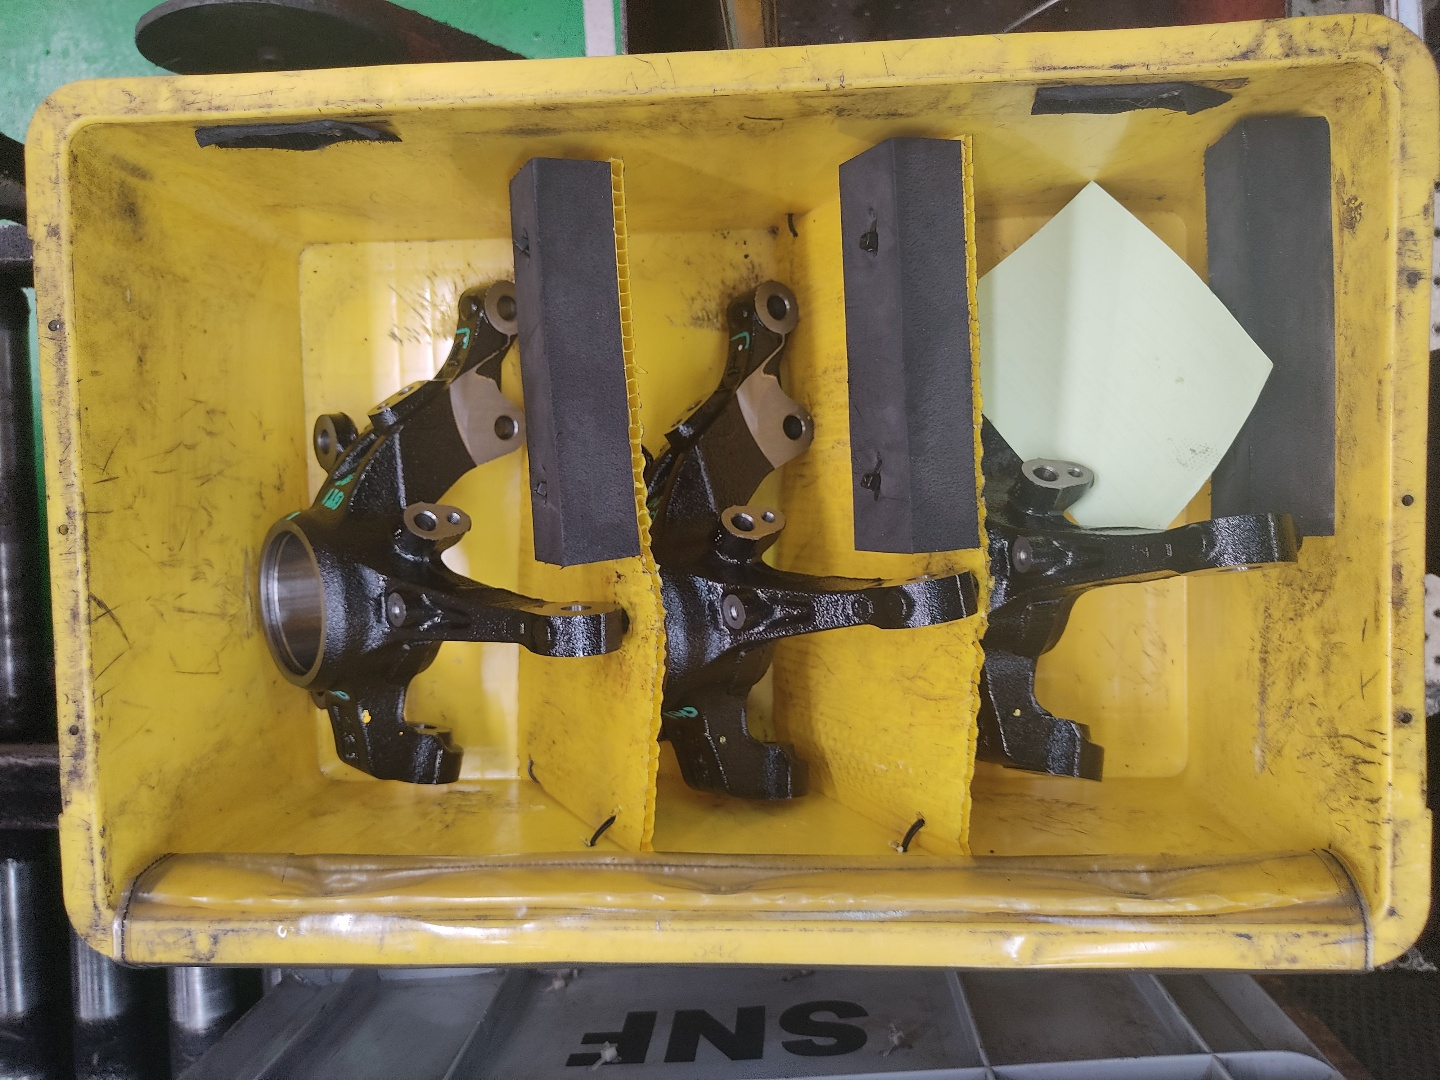abs-lh: (235, 271, 639, 803), (637, 270, 981, 822), (974, 253, 1310, 800)
